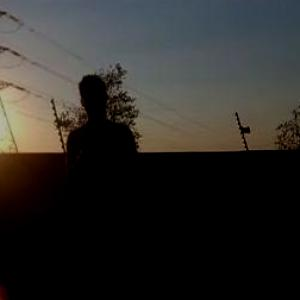follow: (62, 72, 165, 298)
